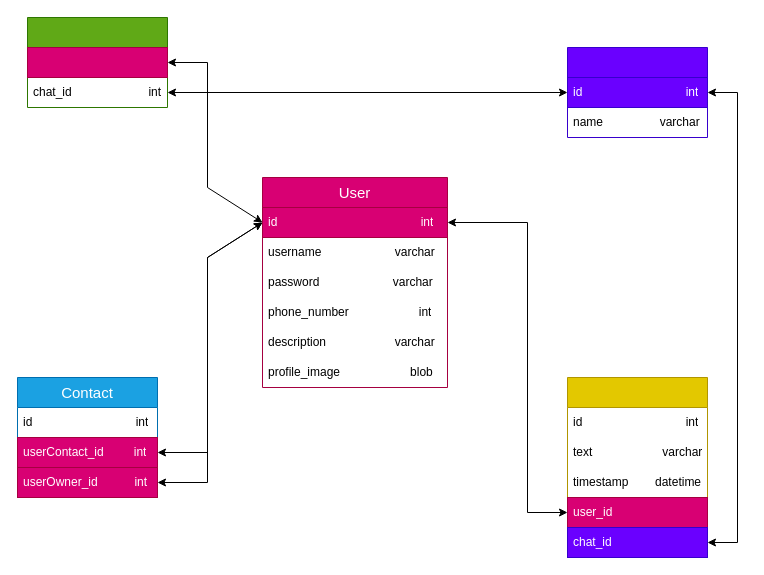
Image size: 764x575. Some labels were removed from this diagram. The shapes that lost their labels are listed below. From the top down, each one's box as (x1, y1, x2, y2) in pixels, then its label:
(26, 16, 168, 108): User Chat
(26, 46, 168, 78): user_id int
(566, 46, 708, 138): Chat
(566, 376, 708, 558): Message
